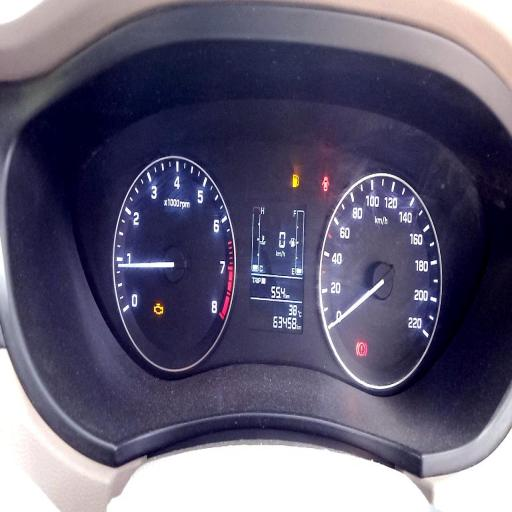brake_system_fault: (356, 341, 367, 357)
check_engine: (153, 301, 163, 317)
tachometer: (112, 155, 237, 371)
